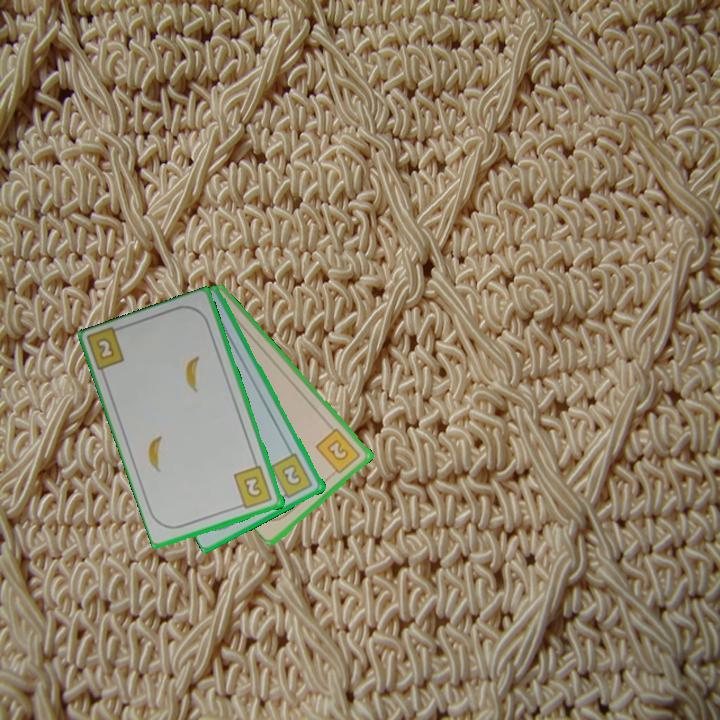2b: (312, 425, 364, 479), (268, 450, 316, 502), (230, 463, 275, 512), (93, 334, 118, 363)
